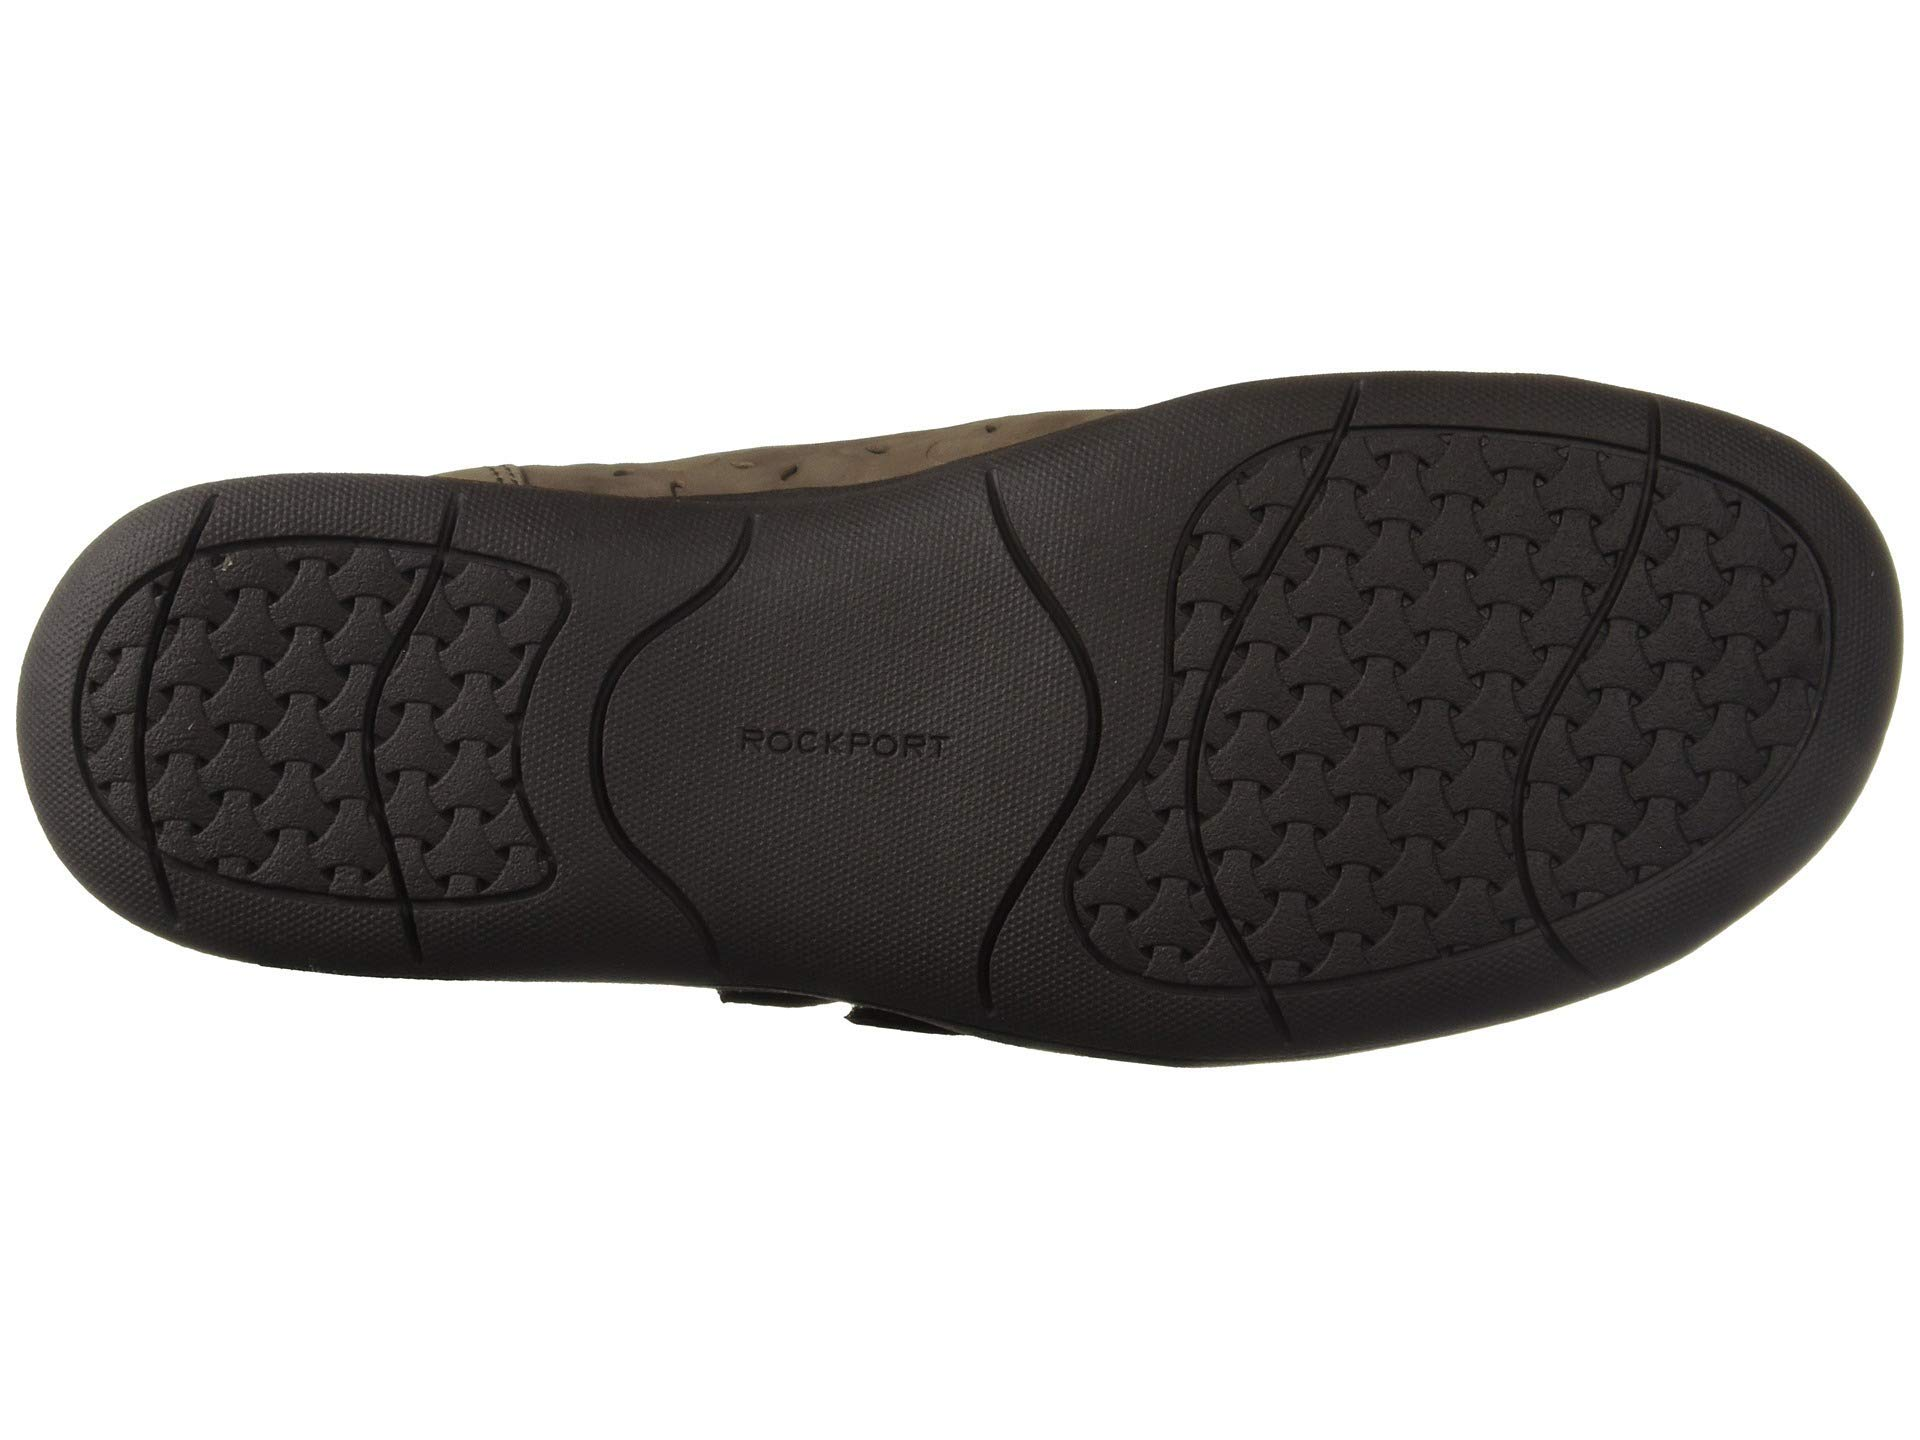circle: (686, 613, 998, 902)
star: (1281, 581, 1586, 862), (168, 597, 382, 843), (1621, 514, 1795, 702)
text: (686, 613, 998, 902)
